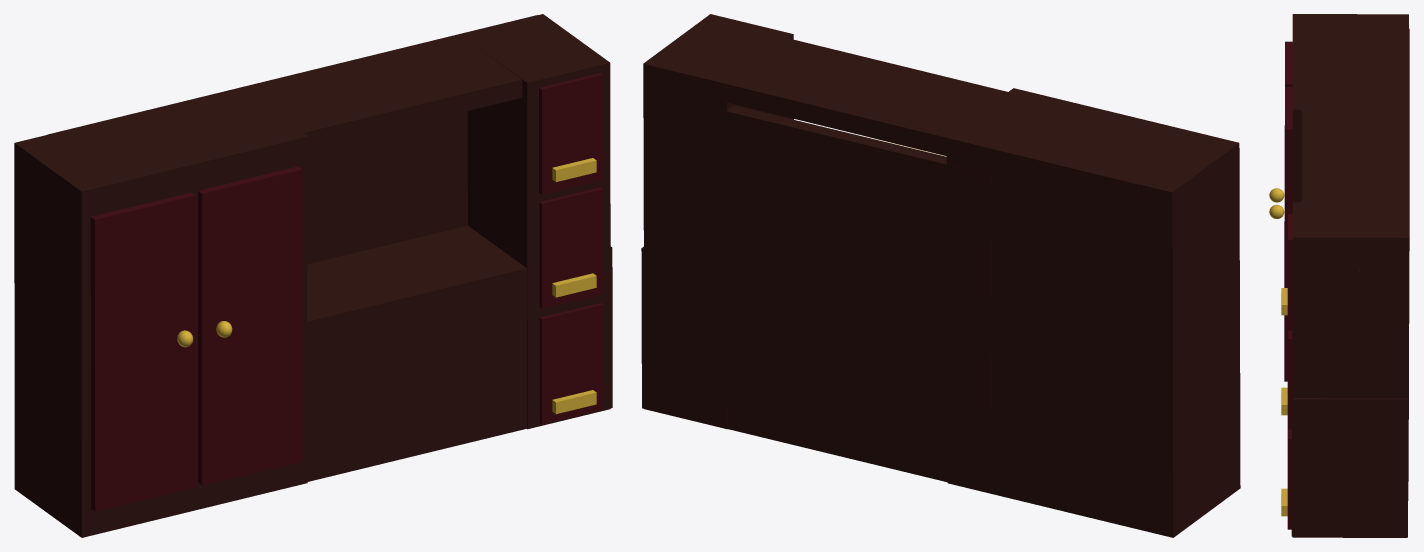
File: Cupboard_0.fbx
3 views of the same model, side by side, from view 1: azimuth 30°, elevation 25°; view 2: azimuth 150°, elevation 25°; view 3: azimuth 270°, elevation 25° (orthographic). The views are drawn at different scales.
Visible parts, largest first — view 1: Cube.023; view 2: Cube.023; view 3: Cube.023.
Part boxes in pixels (x1,y1,x2,y2): Cube.023: (14, 14, 612, 537); Cube.023: (641, 14, 1240, 537); Cube.023: (1269, 14, 1409, 537).
Bounding box in the file's own units: 8.87 × 5.52 × 2.34.
